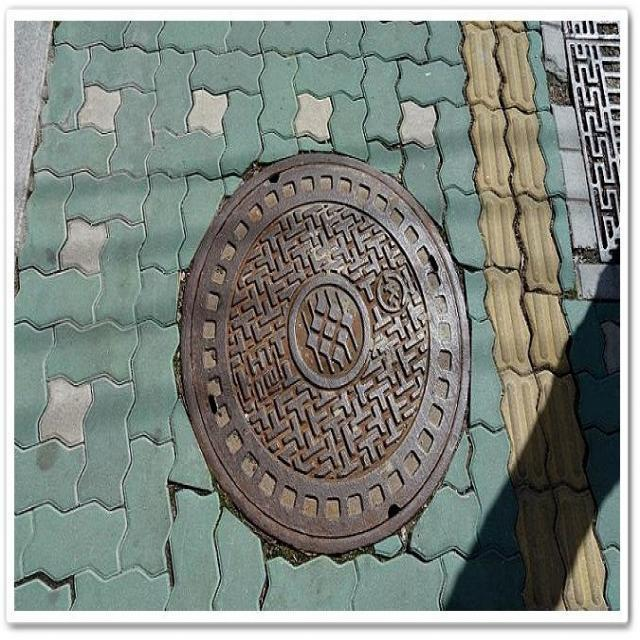manhole: (175, 153, 472, 560)
